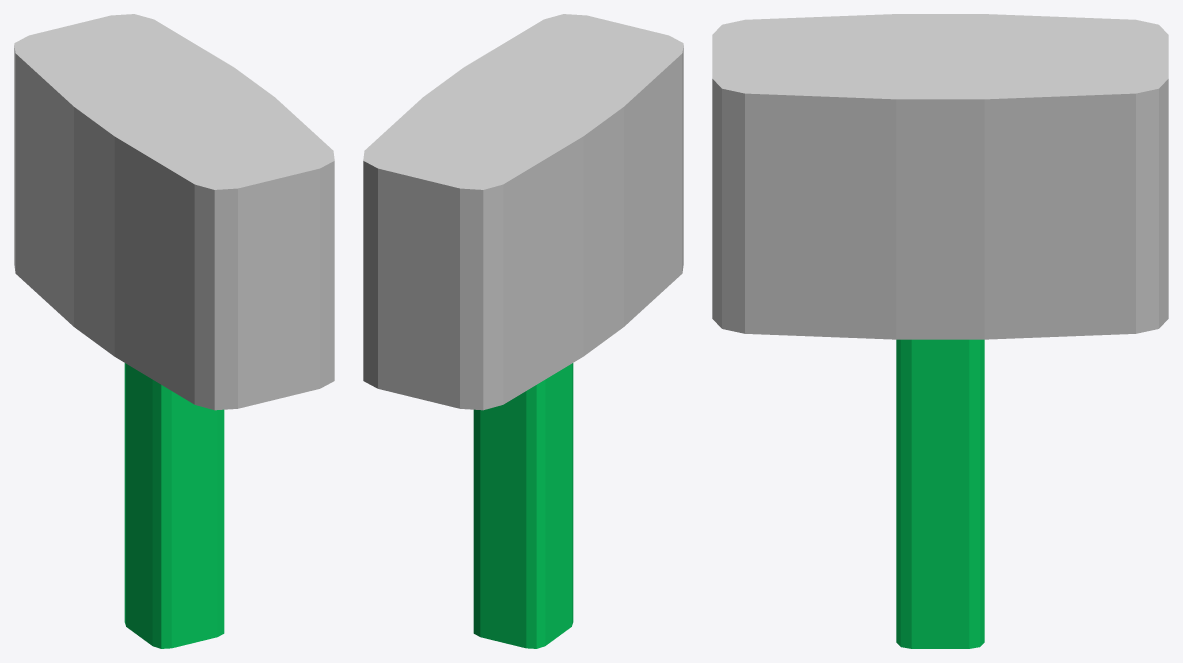
Rendered from sign.glb.
3 views of the same model, side by side, from view 1: azimuth 30°, elevation 25°; view 2: azimuth 150°, elevation 25°; view 3: azimuth 270°, elevation 25° (orthographic). The views are drawn at different scales.
Visible parts, largest first — view 1: Cube; view 2: Cube; view 3: Cube.
Part boxes in pixels (box(x1,y1,x2,y2)): Cube: box(14, 14, 334, 648); Cube: box(363, 14, 683, 648); Cube: box(712, 14, 1168, 648).
Size of the model in its own units: 4.57 by 14.33 by 10.32.
